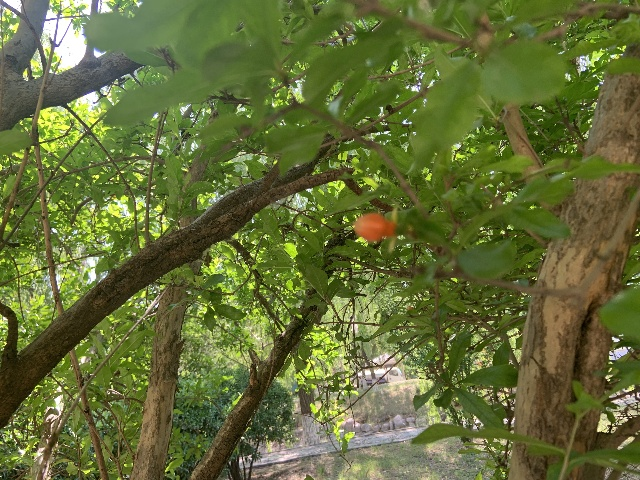bud: (353, 213, 396, 242)
